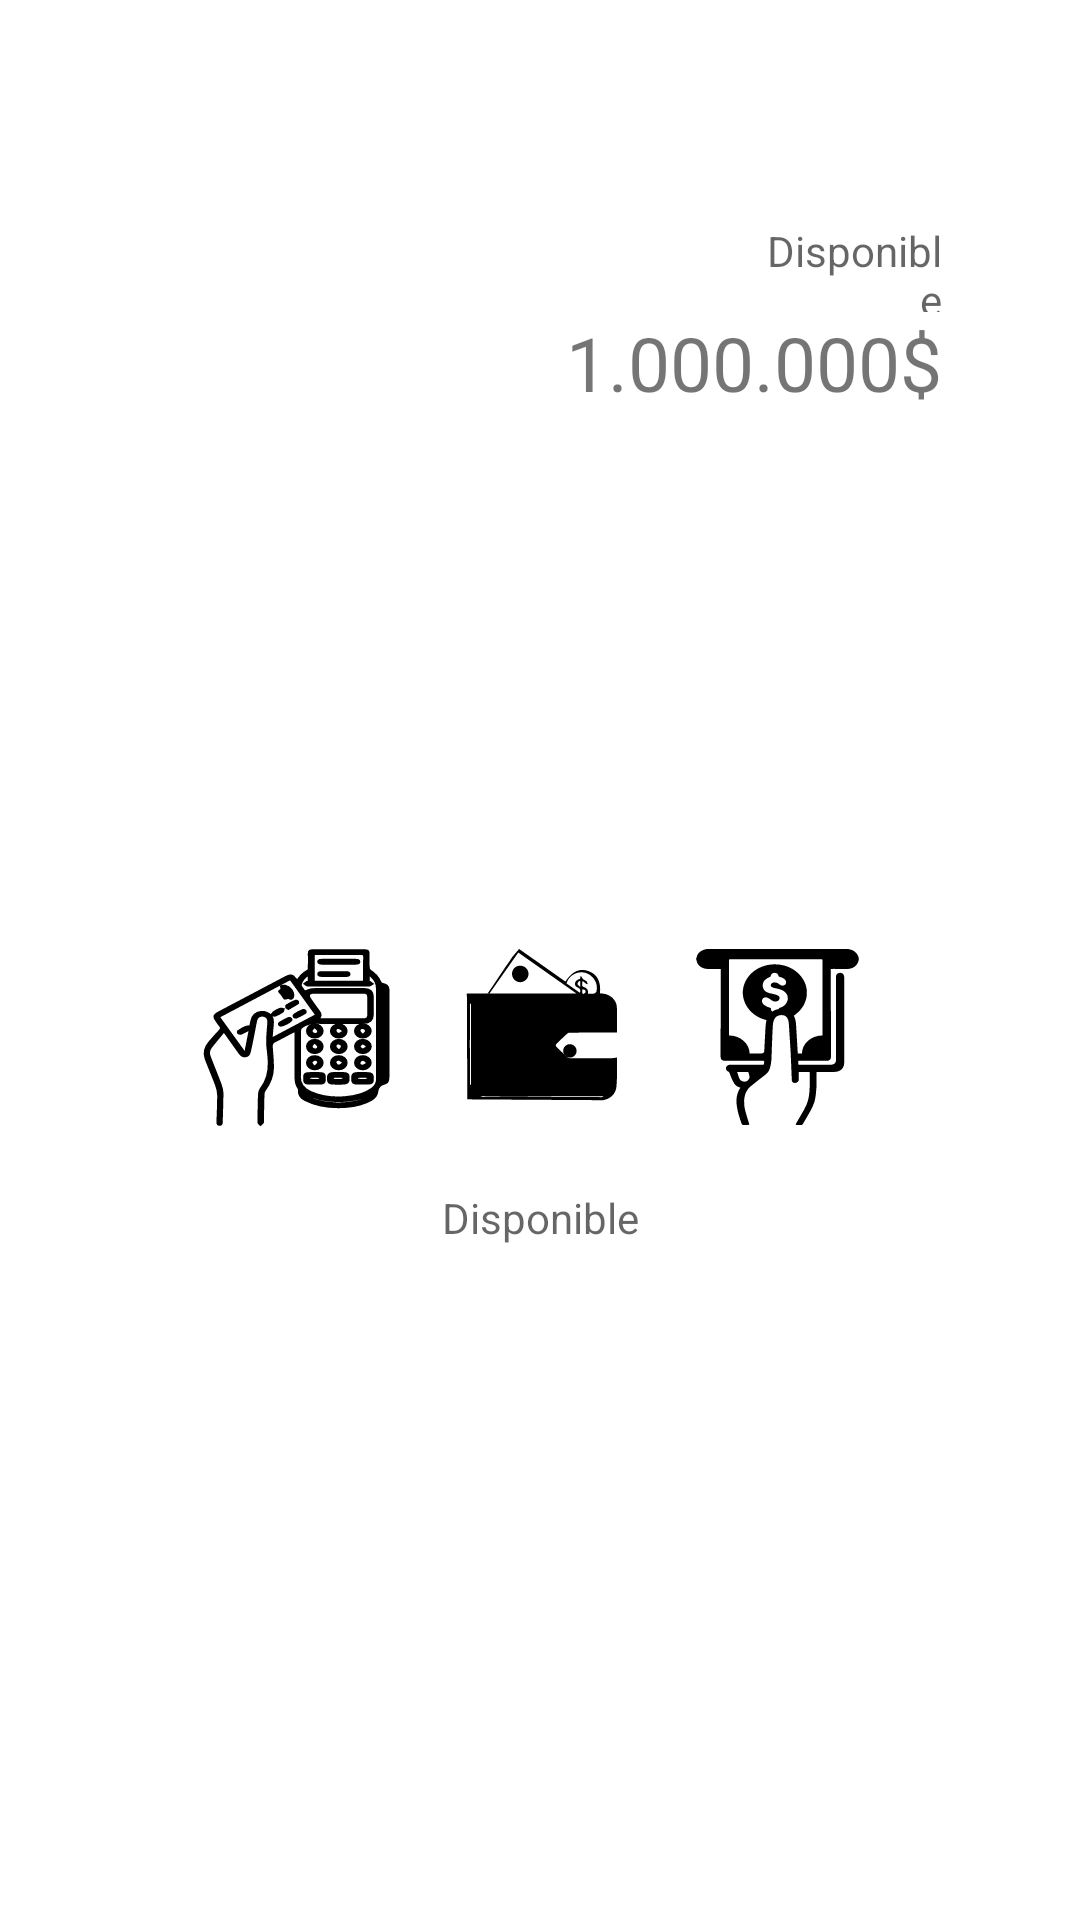

Named icons in this screenshot (1080px×1920px) and their centers, [x,y]:
consignacion: [541,1025]
retiro: [777,1037]
transaccion: [296,1037]
